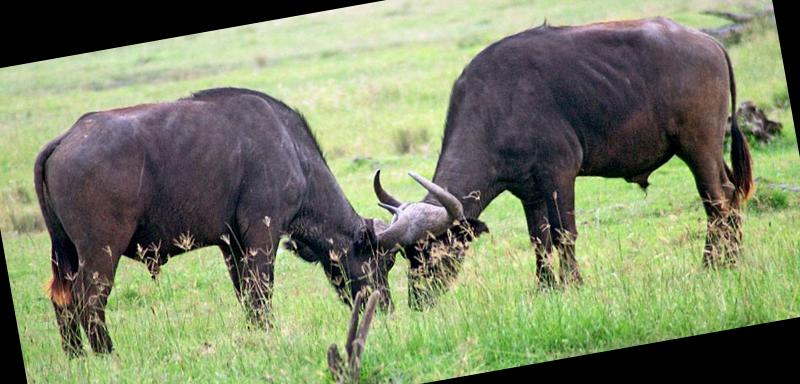Buffalo: (0, 19, 763, 384)
